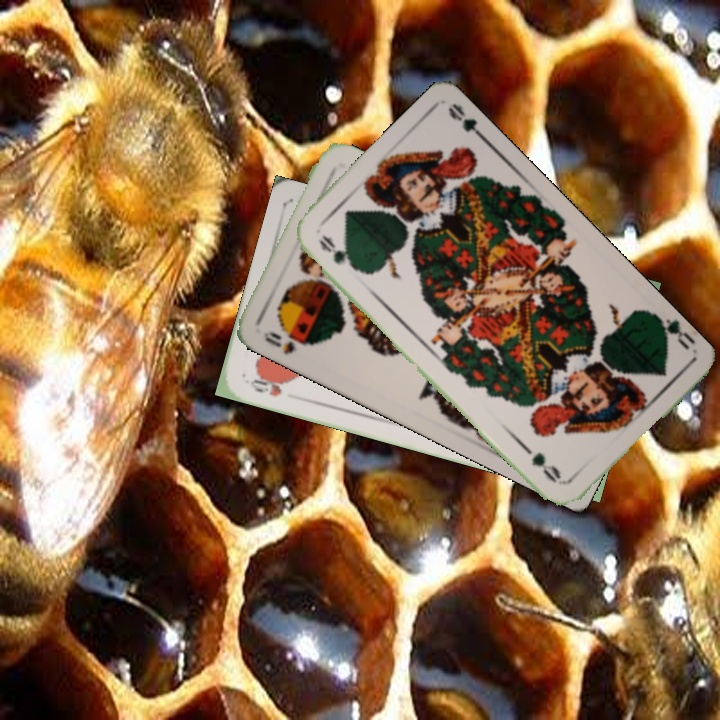GO: (647, 309, 696, 353), (314, 231, 362, 274)
HO: (243, 370, 291, 399)
SO: (259, 327, 298, 358)
